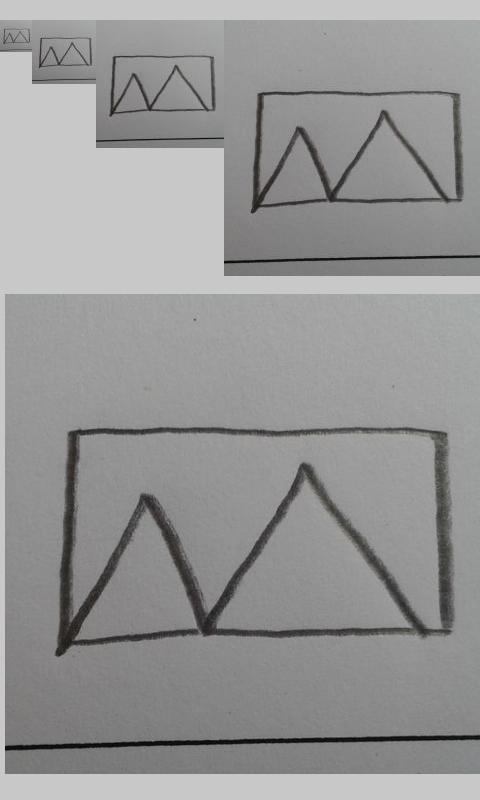image_view: (54, 423, 453, 646), (253, 89, 464, 207), (109, 54, 216, 114), (38, 36, 92, 68), (3, 28, 30, 44)
